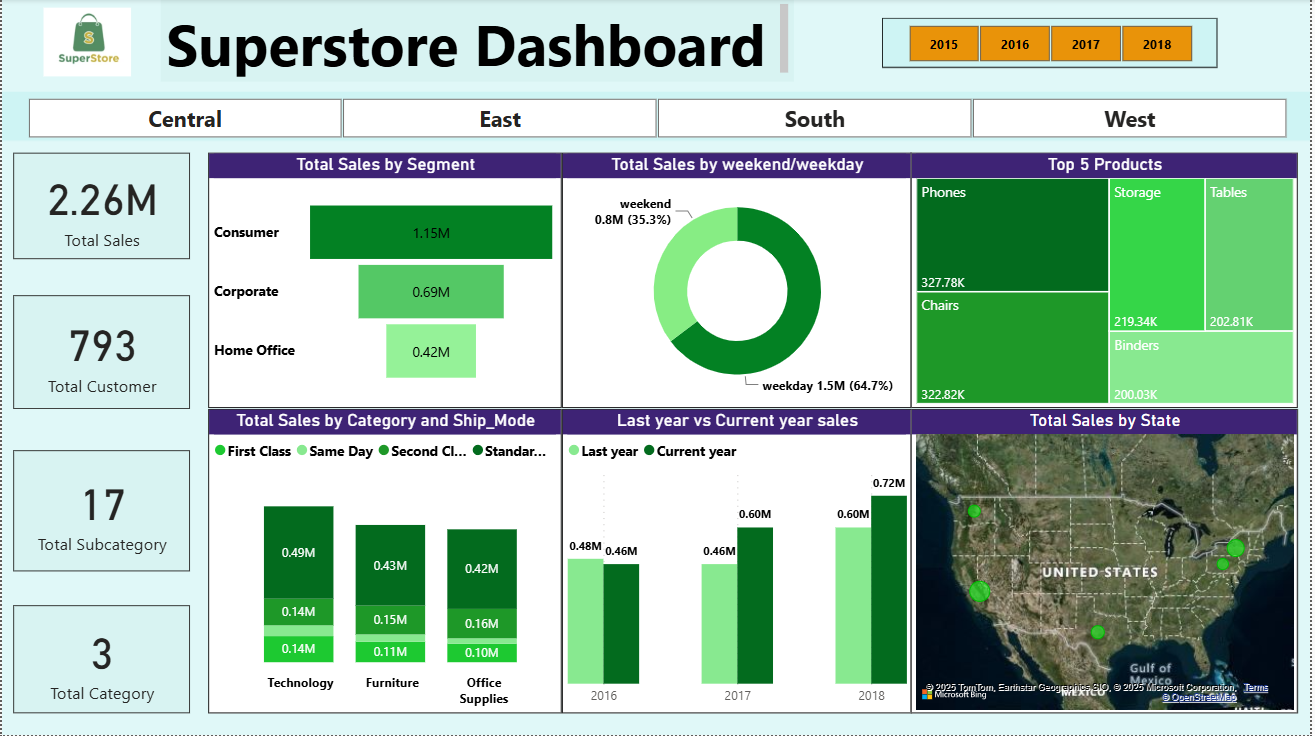

The page's visual inventory and layout, read from the dashboard file:
{"tool":"powerbi","page":{"name":"Page 1","canvas":[1280,720],"ordinal":0},"visuals":[{"type":"textbox","box":[155.1,0,618.9,81],"z":0},{"type":"card","fields":{"Values":["Sum(superstore_final_dataset (1).Sales)"]},"box":[11,150.9,172.9,104.3],"z":1000},{"type":"card","fields":{"Values":["Count(superstore_final_dataset (1).Customer_ID)"]},"box":[11,289.5,172.9,111.1],"z":2000},{"type":"card","fields":{"Values":["Count(superstore_final_dataset (1).Category)"]},"box":[11,592.8,172.9,105.7],"z":3000},{"type":"card","fields":{"Values":["Count(superstore_final_dataset (1).Sub_Category)"]},"box":[11,441.9,172.9,118],"z":4000},{"type":"slicer","fields":{"Values":["superstore_final_dataset (1).Region"]},"box":[0,90.5,1279.9,47.7],"z":5000},{"type":"slicer","fields":{"Values":["Calendar_table.Date.Variation.Date Hierarchy.Year"]},"box":[860.6,18.3,327.6,48.9],"z":6000},{"type":"funnel","fields":{"Category":["superstore_final_dataset (1).Segment"],"Y":["Sum(superstore_final_dataset (1).Sales)"]},"box":[201.7,150.9,345.8,249.7],"z":7000},{"type":"columnChart","fields":{"Category":["superstore_final_dataset (1).Category"],"Y":["Sum(superstore_final_dataset (1).Sales)"],"Series":["superstore_final_dataset (1).Ship_Mode"]},"box":[201.7,400.7,345.8,297.8],"z":8000},{"type":"treemap","title":"Top 5 Products","fields":{"Group":["superstore_final_dataset (1).Sub_Category"],"Values":["Sum(superstore_final_dataset (1).Sales)"]},"box":[889.2,150.9,378.7,249.7],"z":9000},{"type":"map","fields":{"Category":["superstore_final_dataset (1).State","superstore_final_dataset (1).City"],"Size":["Sum(superstore_final_dataset (1).Sales)"]},"box":[889.2,400.7,378.7,297.8],"z":10000},{"type":"clusteredColumnChart","title":"Last year vs Current year sales","fields":{"Y":["superstore_final_dataset (1).SPLY","Sum(superstore_final_dataset (1).Sales)"],"Category":["Calendar_table.Date.Variation.Date Hierarchy.Year"]},"box":[547.5,400.7,341.7,297.8],"z":11000},{"type":"donutChart","fields":{"Y":["Sum(superstore_final_dataset (1).Sales)"],"Series":["superstore_final_dataset (1).weekend/weekday"]},"box":[547.5,150.9,341.7,249.7],"z":12000},{"type":"image","box":[11,4.1,144.1,76.8],"z":13000}]}

Visuals, with their boxes in screenshot pixels (x1, y1, x2, y2), scaled from the page's 1280x720 canvas onto the 1315x736 screenshot:
textbox: [left=159, top=0, right=795, bottom=83]
card - Sum(superstore_final_dataset (1).Sales): [left=11, top=154, right=189, bottom=261]
card - Count(superstore_final_dataset (1).Customer_ID): [left=11, top=296, right=189, bottom=410]
card - Count(superstore_final_dataset (1).Category): [left=11, top=606, right=189, bottom=714]
card - Count(superstore_final_dataset (1).Sub_Category): [left=11, top=452, right=189, bottom=572]
slicer - superstore_final_dataset (1).Region: [left=0, top=93, right=1314, bottom=141]
slicer - Calendar_table.Date.Variation.Date Hierarchy.Year: [left=884, top=19, right=1221, bottom=69]
funnel - superstore_final_dataset (1).Segment x Sum(superstore_final_dataset (1).Sales): [left=207, top=154, right=562, bottom=410]
columnChart - superstore_final_dataset (1).Category x Sum(superstore_final_dataset (1).Sales): [left=207, top=410, right=562, bottom=714]
"Top 5 Products" treemap: [left=914, top=154, right=1303, bottom=410]
map - superstore_final_dataset (1).State x superstore_final_dataset (1).City: [left=914, top=410, right=1303, bottom=714]
"Last year vs Current year sales" clusteredColumnChart: [left=562, top=410, right=914, bottom=714]
donutChart - Sum(superstore_final_dataset (1).Sales) x superstore_final_dataset (1).weekend/weekday: [left=562, top=154, right=914, bottom=410]
image: [left=11, top=4, right=159, bottom=83]
